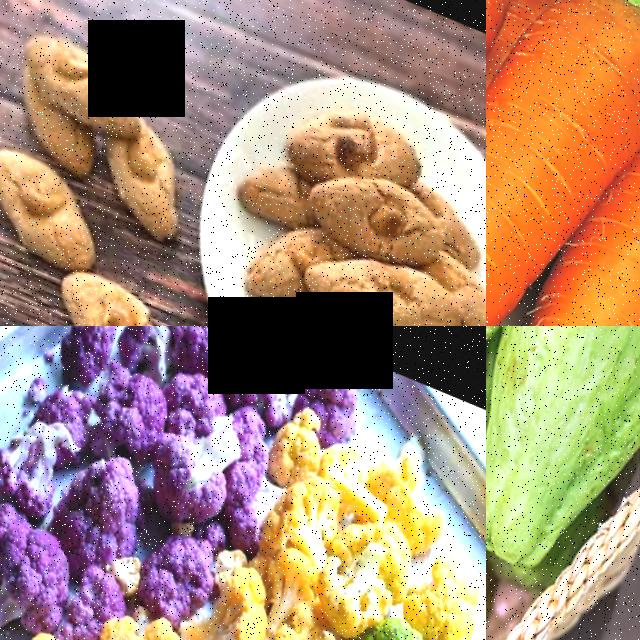carrot: (486, 0, 640, 326), (486, 0, 540, 187)
chayote: (486, 326, 640, 601), (486, 326, 535, 610)
